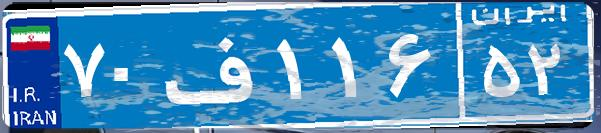0: (110, 28, 158, 105)
1: (273, 28, 330, 110), (330, 28, 385, 110)
2: (525, 38, 570, 115)
5: (475, 38, 525, 113)
6: (385, 28, 445, 110)
7: (57, 26, 110, 107)
ف: (158, 15, 273, 115)
